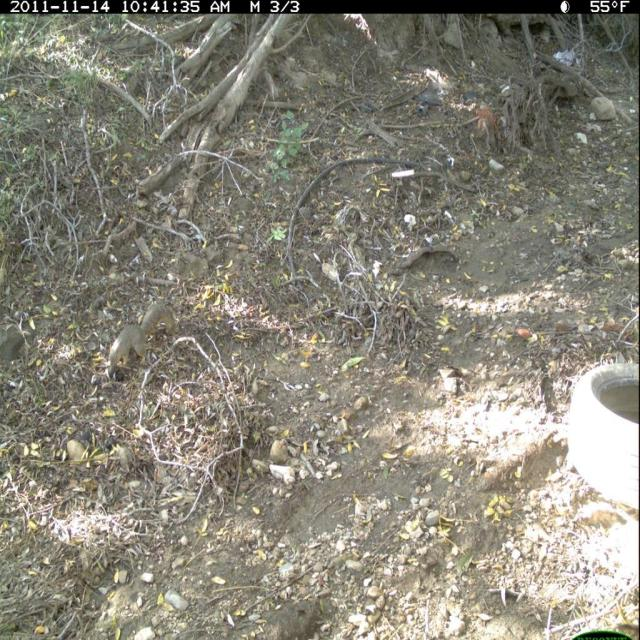squirrel: (95, 293, 187, 385)
